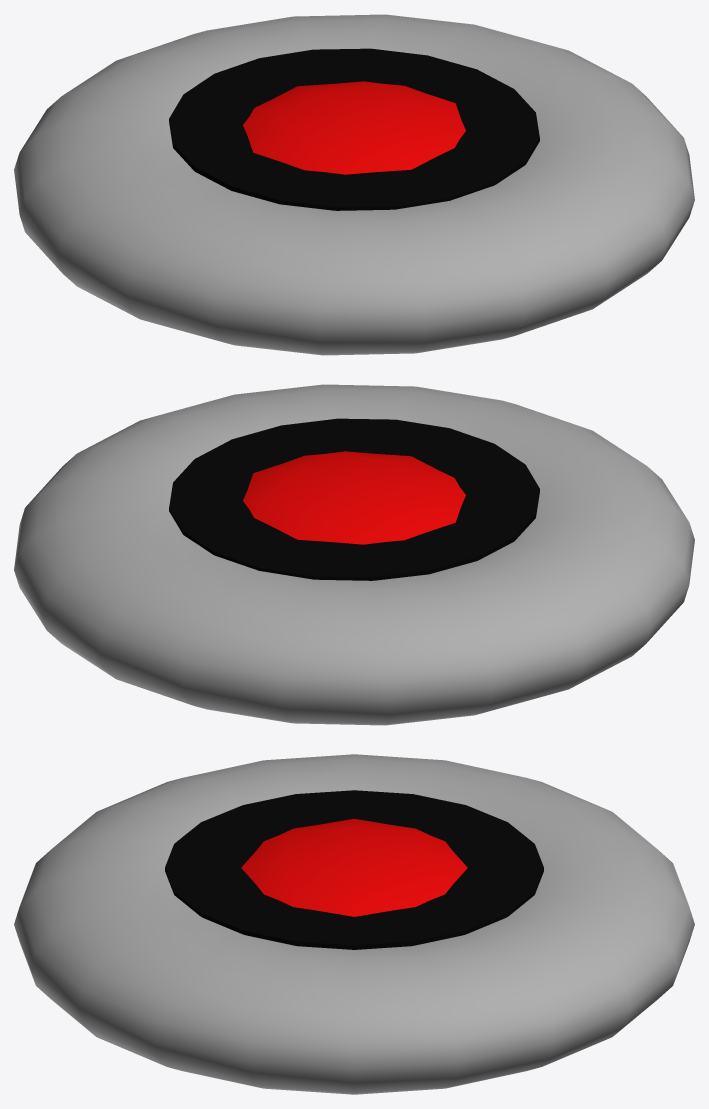
The model's file is Enemy01Model.fbx.
3 renders of one model, top to bottom at view 1: azimuth 30°, elevation 25°; view 2: azimuth 150°, elevation 25°; view 3: azimuth 270°, elevation 25°, orthographic.
Visible parts, largest first — view 1: pTorus1, pCylinder1, pCube1; view 2: pTorus1, pCylinder1, pCube1; view 3: pTorus1, pCylinder1, pCube1.
Boxes of the visible parts, x1,y1,x2,y2 form: pTorus1: (14, 14, 694, 355); pCylinder1: (169, 48, 539, 210); pCube1: (243, 81, 465, 174); pTorus1: (14, 384, 694, 725); pCylinder1: (169, 418, 539, 580); pCube1: (243, 451, 465, 544); pTorus1: (14, 754, 694, 1094); pCylinder1: (165, 790, 543, 949); pCube1: (241, 818, 467, 916).
Size of the model in its own units: 1.41 by 0.3341 by 1.41.
